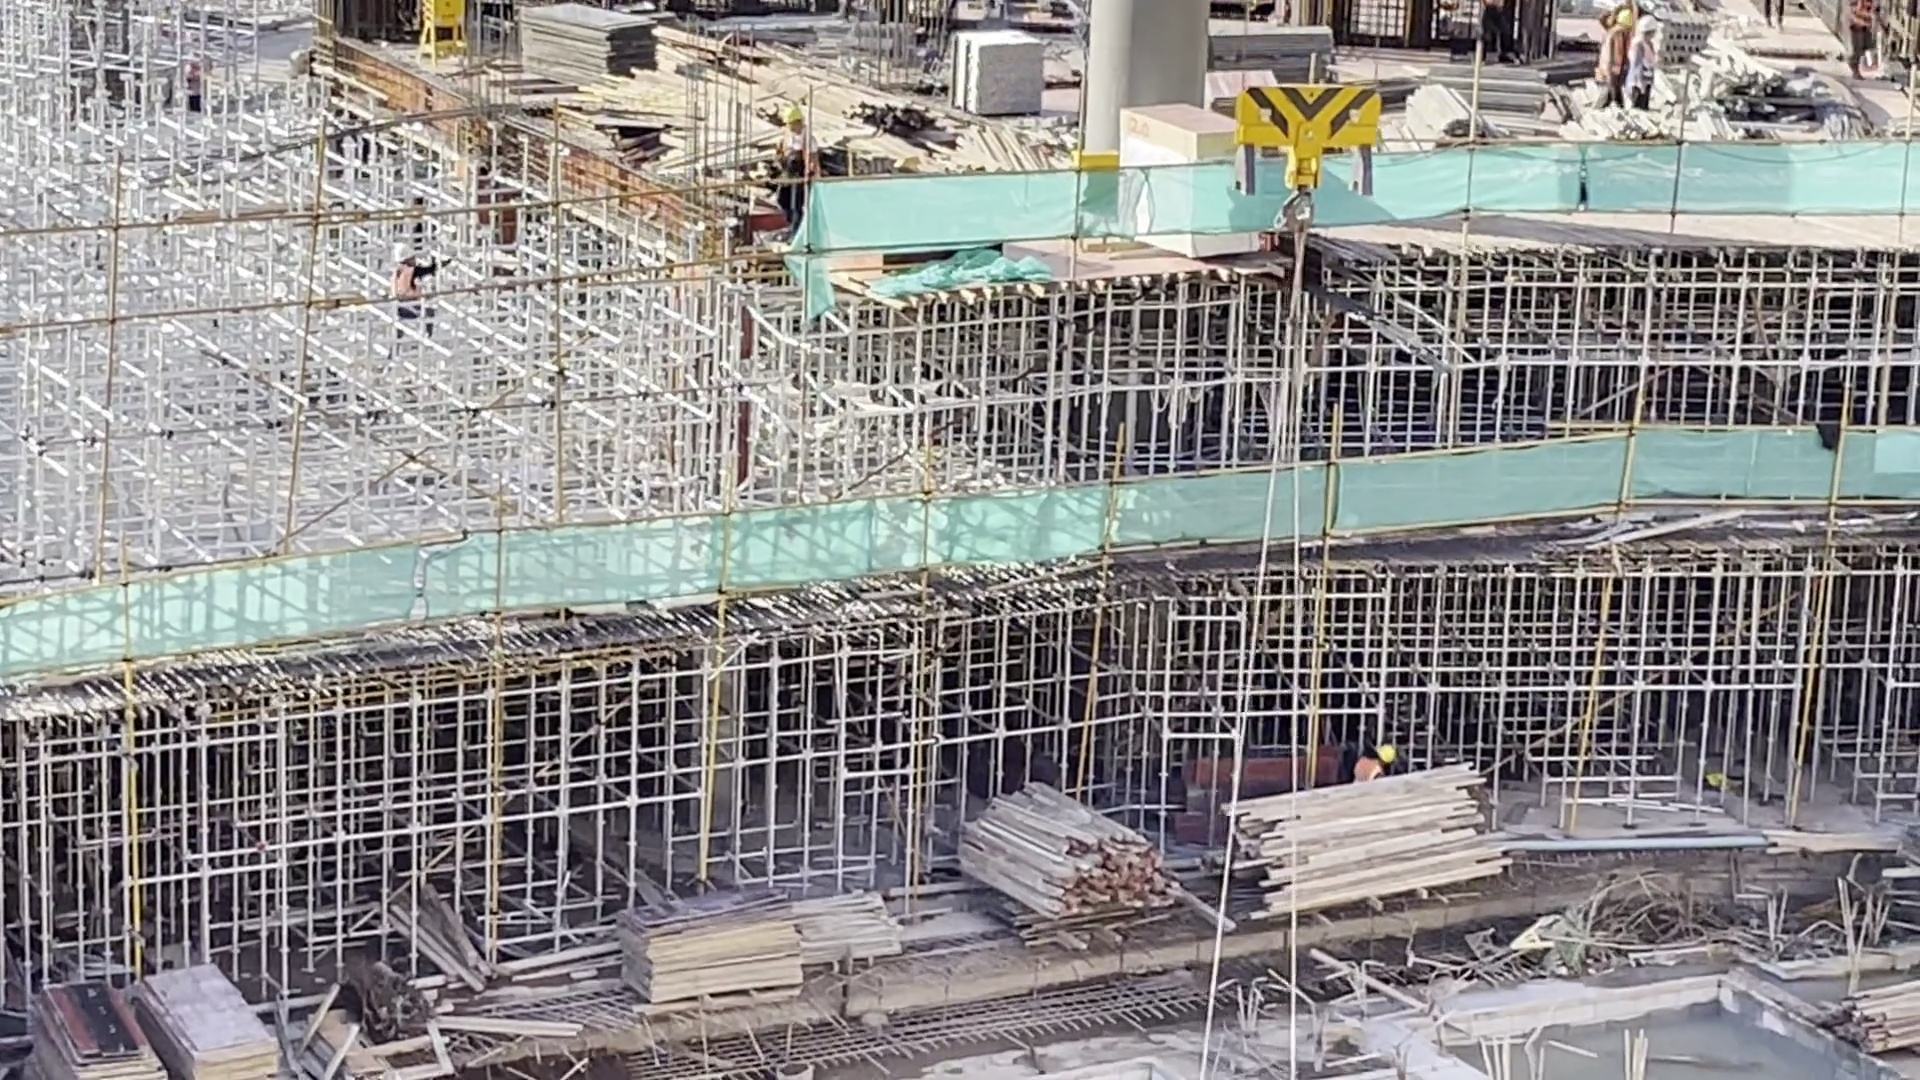board: (615, 885, 808, 1015), (136, 961, 288, 1080), (28, 974, 170, 1080), (519, 4, 660, 93), (1118, 102, 1237, 157), (1205, 66, 1278, 88)
ebox: (414, 2, 470, 61)
helmet: (389, 241, 421, 264), (781, 108, 804, 125), (1637, 15, 1657, 33), (1375, 744, 1394, 762), (1611, 9, 1634, 24)
hook: (1232, 90, 1385, 227)
person: (1596, 10, 1631, 110), (1848, 1, 1884, 84), (385, 237, 438, 294), (772, 106, 808, 178), (1630, 14, 1656, 109), (1350, 742, 1396, 780), (1762, 1, 1788, 32)
scaffold: (952, 26, 1048, 117)
vest: (1599, 30, 1630, 78), (1631, 37, 1657, 85), (1353, 756, 1384, 781), (1851, 1, 1875, 27)
wood: (1223, 789, 1517, 920), (951, 780, 1184, 922), (1819, 974, 1920, 1049), (1405, 82, 1470, 138)
